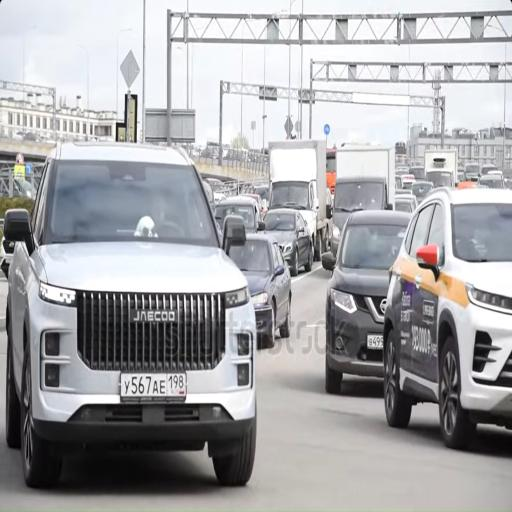License plates: (120, 373, 186, 400), (367, 335, 383, 349)
